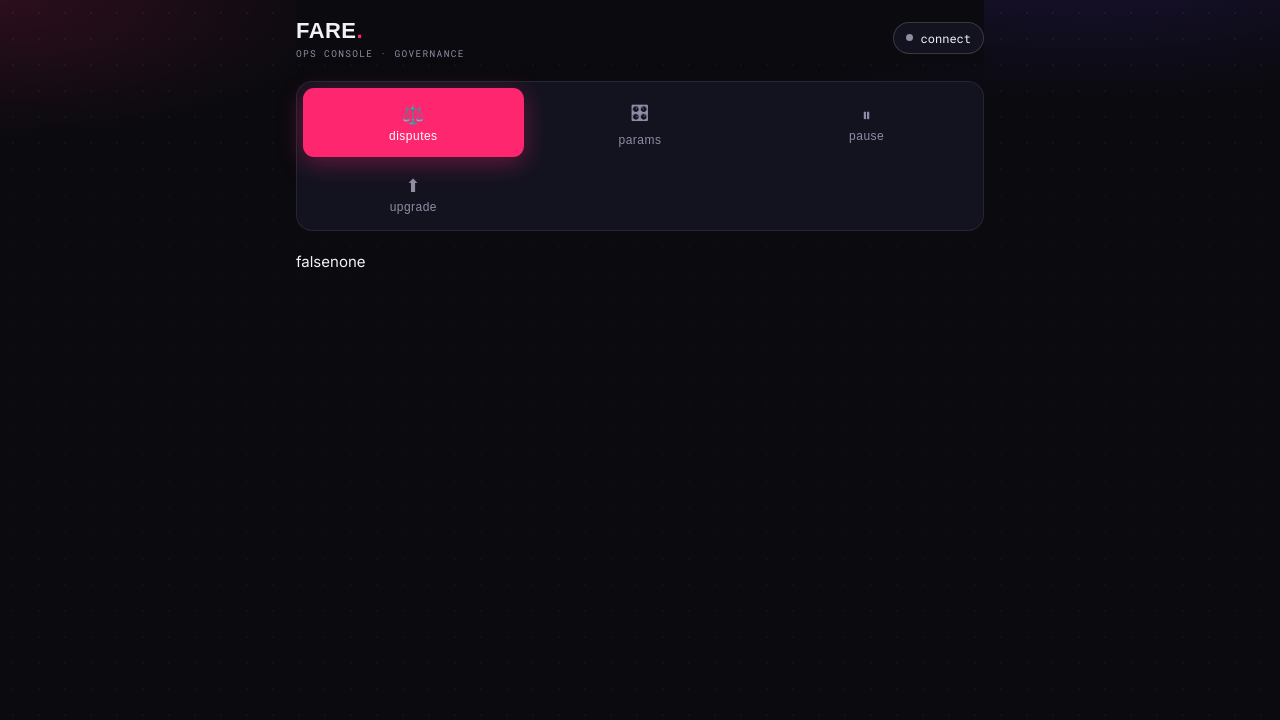
Test: session handling › surfaces a connection failure instead of silently staying disconnected
Click the button "connect". click: (938, 38)
box: [893, 22, 984, 54]
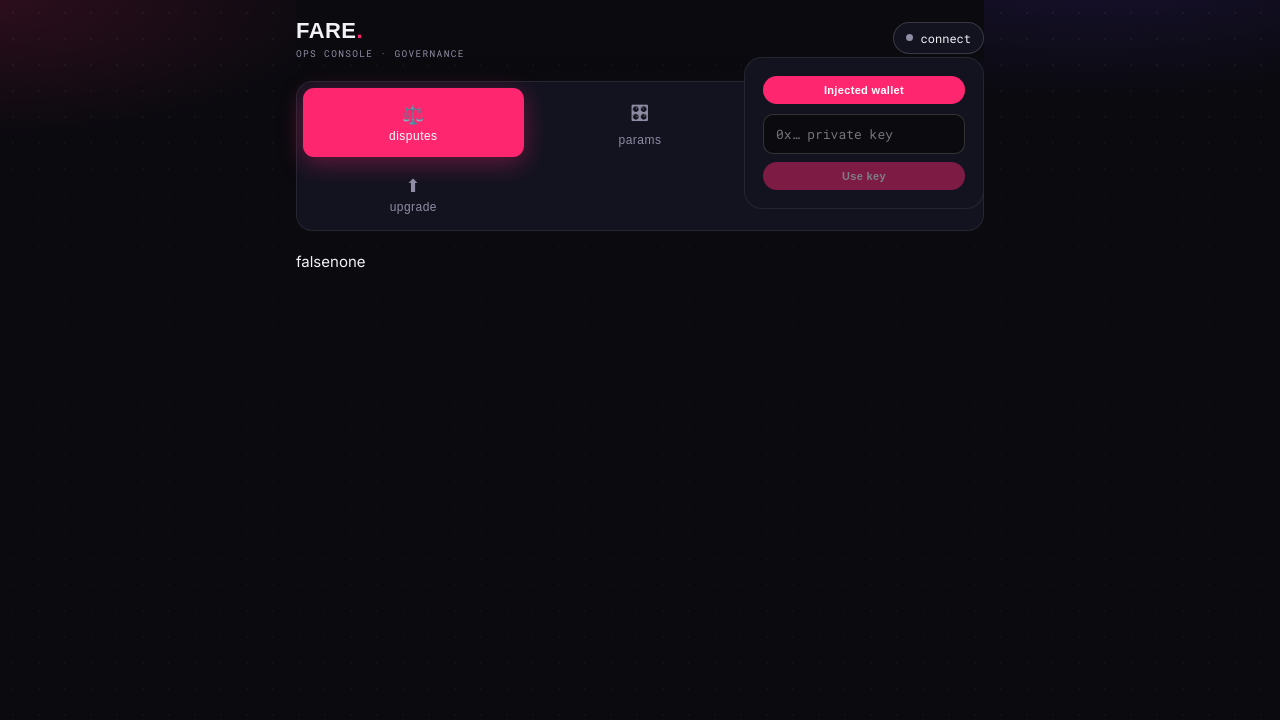
Click the button "Injected wallet". click: (864, 90)
box: [763, 76, 965, 104]
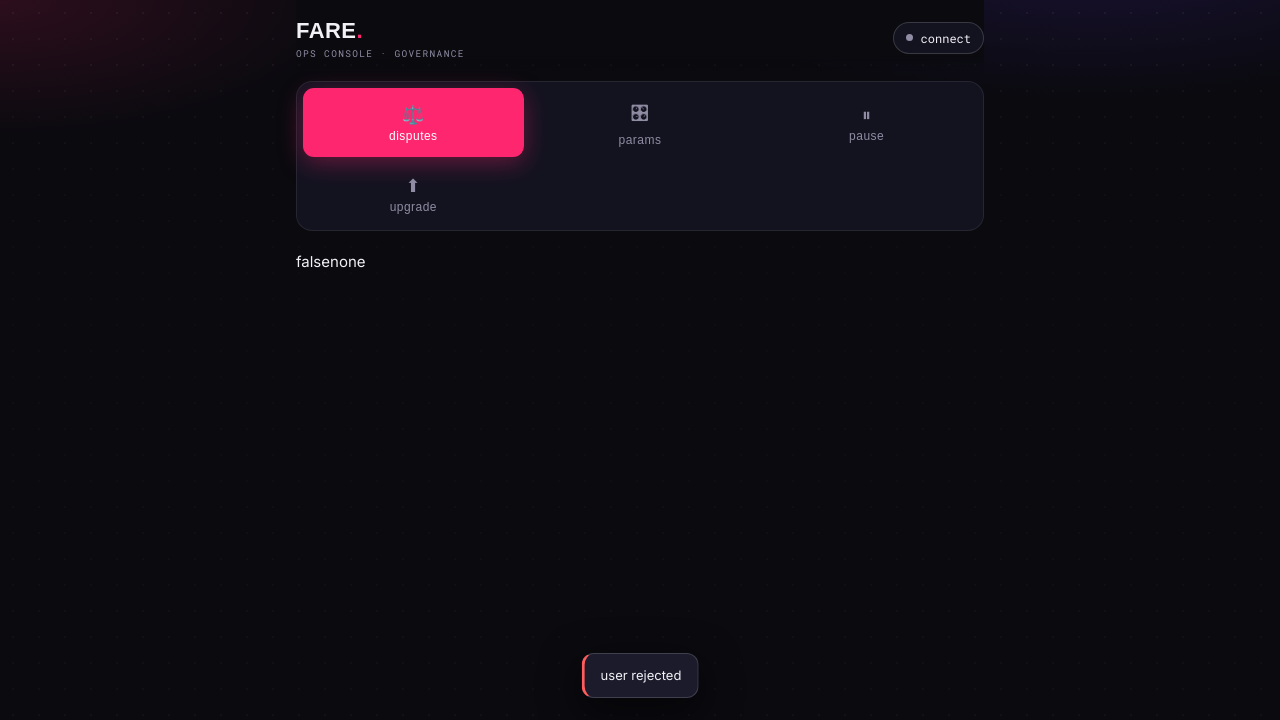
Expected: the text with test id "session" reads "none", [330, 252, 366, 271]
Expected: the text "user rejected" is shown, [582, 652, 698, 698]
